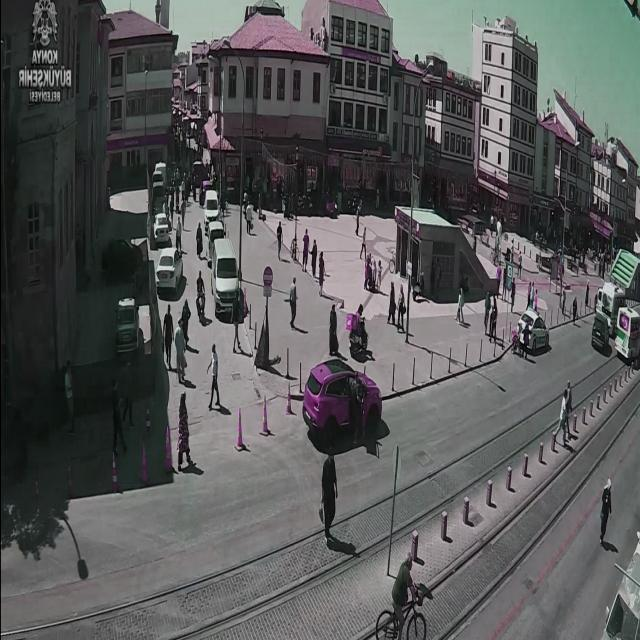Car: (303, 359, 383, 443), (516, 308, 550, 354), (100, 236, 140, 274), (116, 298, 139, 356), (156, 248, 183, 294), (591, 311, 611, 353), (153, 212, 172, 244), (204, 190, 220, 225), (207, 220, 226, 248)
Cycle: (374, 587, 428, 640)
Van: (210, 239, 240, 316), (594, 282, 625, 336), (614, 306, 640, 363)
